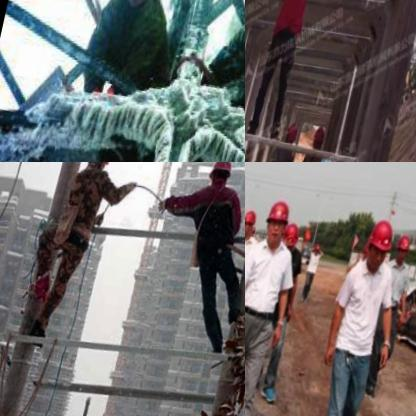helmet: (360, 219, 399, 278), (260, 195, 295, 251), (205, 162, 236, 197), (281, 116, 305, 158), (391, 232, 415, 274), (280, 218, 303, 259), (307, 127, 328, 160), (81, 162, 114, 182), (245, 207, 259, 244)
